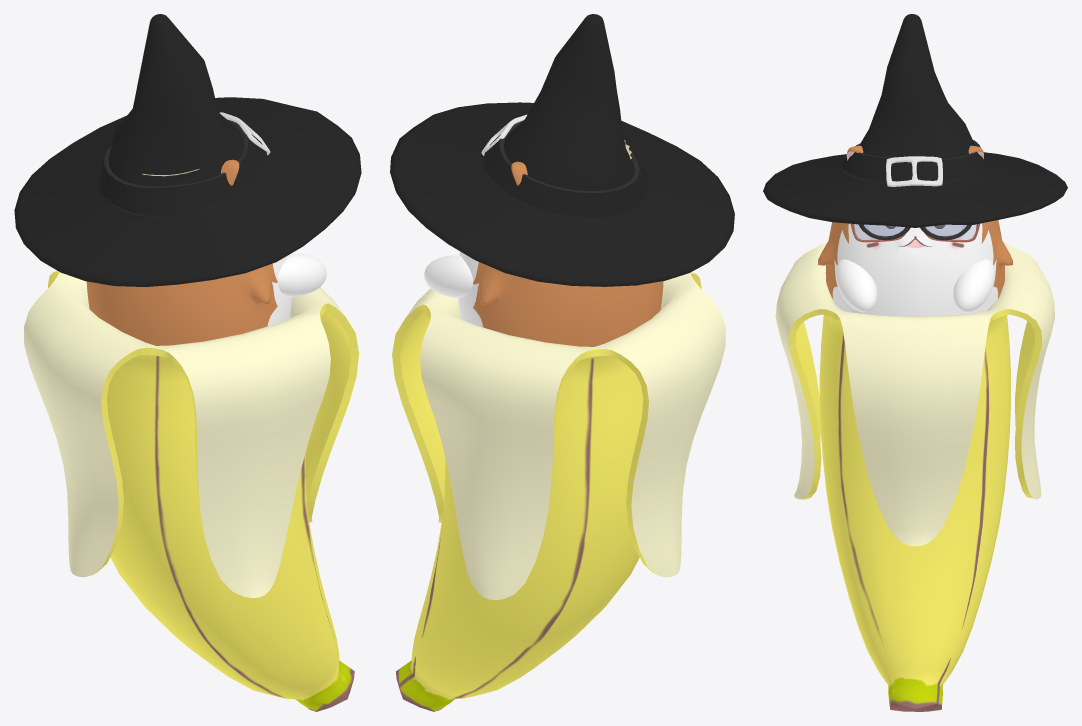
Rendered from bananyath-three-js.glb.
The picture shows the model from 3 angles, left to right: view 1: azimuth 30°, elevation 25°; view 2: azimuth 150°, elevation 25°; view 3: azimuth 270°, elevation 25°; orthographic projection. The views are drawn at different scales.
Parts seen in each view (by area): view 1: slot_banana_0, slot_hat_0, slot_base_0, slot_paws_0; view 2: slot_banana_0, slot_hat_0, slot_base_0, slot_paws_0; view 3: slot_banana_0, slot_hat_0, slot_base_0, slot_paws_0, slot_glasses_0, slot_glasses_1, slot_glasses_2.
Boxes of the visible parts, x1=… form: slot_banana_0: x1=24, y1=270, x2=358, y2=711; slot_hat_0: x1=14, y1=14, x2=361, y2=286; slot_base_0: x1=86, y1=159, x2=292, y2=345; slot_paws_0: x1=277, y1=254, x2=326, y2=296; slot_banana_0: x1=392, y1=272, x2=725, y2=711; slot_hat_0: x1=390, y1=14, x2=734, y2=286; slot_base_0: x1=458, y1=161, x2=663, y2=346; slot_paws_0: x1=424, y1=255, x2=473, y2=297; slot_banana_0: x1=775, y1=241, x2=1054, y2=711; slot_hat_0: x1=763, y1=14, x2=1067, y2=227; slot_base_0: x1=817, y1=145, x2=1012, y2=316; slot_paws_0: x1=836, y1=259, x2=994, y2=312; slot_glasses_0: x1=850, y1=223, x2=979, y2=242; slot_glasses_1: x1=865, y1=225, x2=965, y2=236; slot_glasses_2: x1=858, y1=224, x2=971, y2=240.
Size of the model in its own units: 4.45 by 9.78 by 4.28.
14 materials, 3 textured.
